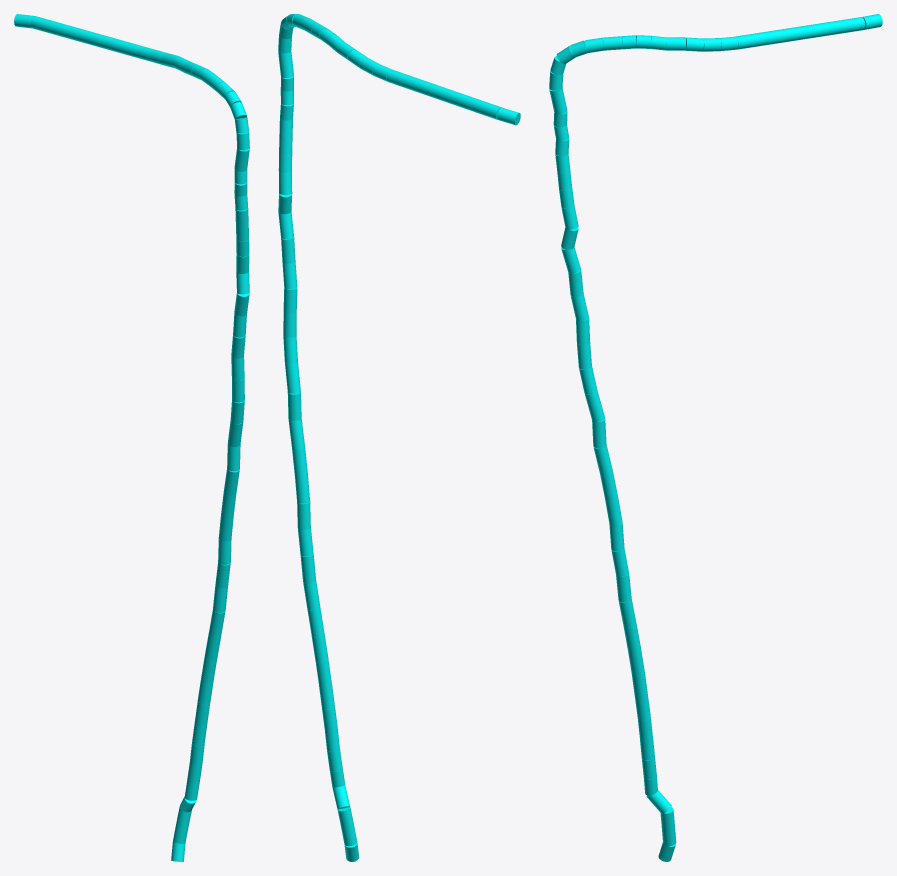
The picture shows the model from 3 angles, left to right: view 1: azimuth 30°, elevation 25°; view 2: azimuth 210°, elevation 25°; view 3: azimuth 270°, elevation 25°; orthographic projection. The views are drawn at different scales.
Visible parts, largest first — view 1: Cylinder(Clone); view 2: Cylinder(Clone); view 3: Cylinder(Clone).
Part boxes in pixels (x1,y1,x2,y2): Cylinder(Clone): [30, 16, 141, 57]; Cylinder(Clone): [386, 69, 501, 119]; Cylinder(Clone): [735, 17, 865, 49].
Bounding box in the file's own units: 0.0829 × 0.6883 × 0.2506.
